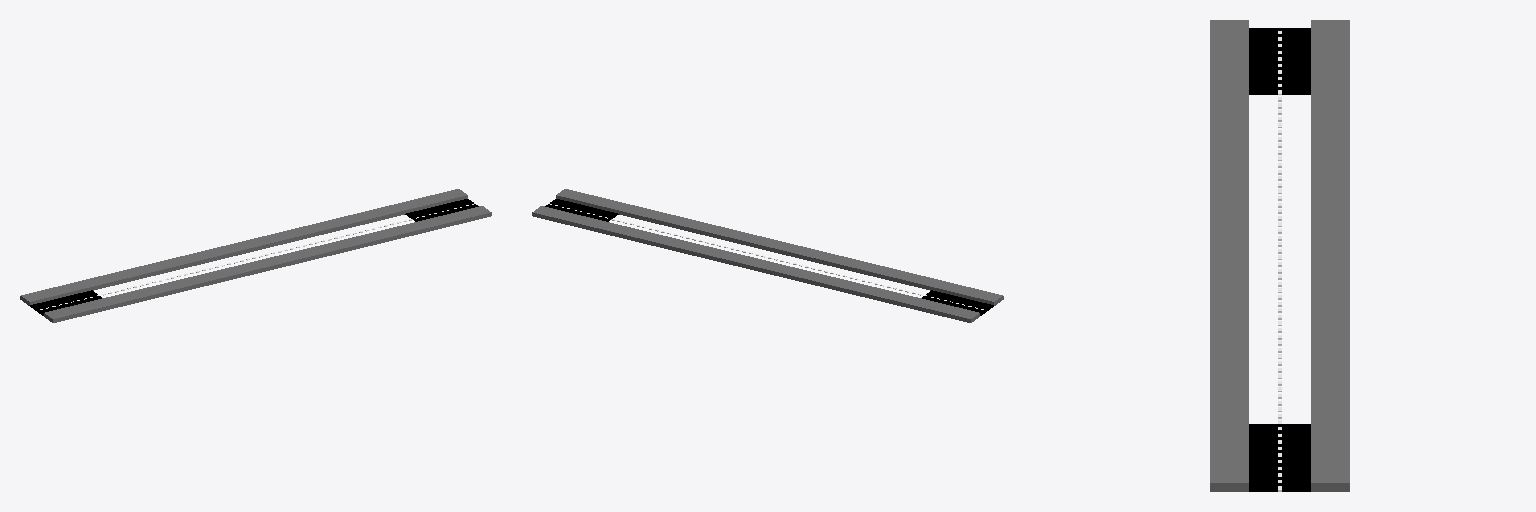
robot.urdf — Track_01:
<?xml version="1.0" encoding="utf-8"?>
<!-- This URDF was automatically created by SolidWorks to URDF Exporter! Originally created by [author] ([email redacted]) 
     Commit Version: 1.6.0-4-g7f85cfe  Build Version: 1.6.7995.38578
     For more information, please see http://wiki.ros.org/sw_urdf_exporter -->
<robot
  name="Track_01">
  <link
    name="Track_link">
    <inertial>
      <origin
        xyz="4.9984 8.8818E-16 -0.0125"
        rpy="0 0 0" />
      <mass
        value="1395" />
      <inertia
        ixx="76.863"
        ixy="-1.7035E-12"
        ixz="4.5741E-13"
        iyy="11625"
        iyz="-6.8212E-13"
        izz="11702" />
    </inertial>
    <visual>
      <origin
        xyz="0 0 0"
        rpy="0 0 0" />
      <geometry>
        <mesh
          filename="package://Track_01/meshes/Track_link.STL" />
      </geometry>
      <material
        name="">
        <color
          rgba="0 0 0 1" />
      </material>
    </visual>
    <collision>
      <origin
        xyz="0 0 0"
        rpy="0 0 0" />
      <geometry>
        <mesh
          filename="package://Track_01/meshes/Track_link.STL" />
      </geometry>
    </collision>
  </link>
  <link
    name="Track_lane">
    <inertial>
      <origin
        xyz="4.9 8.8818E-16 -0.0125"
        rpy="0 0 0" />
      <mass
        value="45" />
      <inertia
        ixx="0.011719"
        ixy="-8.1749E-17"
        ixz="-6.0715E-18"
        iyy="0.039844"
        iyz="1.0083E-17"
        izz="0.046875" />
    </inertial>
    <visual>
      <origin
        xyz="0 0 0"
        rpy="0 0 0" />
      <geometry>
        <mesh
          filename="package://Track_01/meshes/Track_lane.STL" />
      </geometry>
      <material
        name="">
        <color
          rgba="1 1 1 1" />
      </material>
    </visual>
    <collision>
      <origin
        xyz="0 0 0"
        rpy="0 0 0" />
      <geometry>
        <mesh
          filename="package://Track_01/meshes/Track_lane.STL" />
      </geometry>
    </collision>
  </link>
  <joint
    name="Track_lane_joint"
    type="fixed">
    <origin
      xyz="0.15 0 0"
      rpy="0 0 0" />
    <parent
      link="Track_link" />
    <child
      link="Track_lane" />
    <axis
      xyz="0 0 0" />
  </joint>
  <link
    name="Back_Track">
    <inertial>
      <origin
        xyz="0 -8.8818E-16 -0.0125"
        rpy="0 0 0" />
      <mass
        value="279" />
      <inertia
        ixx="15.373"
        ixy="-2.7445E-13"
        ixz="2.2204E-16"
        iyy="93.014"
        iyz="-2.4425E-15"
        izz="108.36" />
    </inertial>
    <visual>
      <origin
        xyz="0 0 0"
        rpy="0 0 0" />
      <geometry>
        <mesh
          filename="package://Track_01/meshes/Back_Track.STL" />
      </geometry>
      <material
        name="">
        <color
          rgba="0 0 0 1" />
      </material>
    </visual>
    <collision>
      <origin
        xyz="0 0 0"
        rpy="0 0 0" />
      <geometry>
        <mesh
          filename="package://Track_01/meshes/Back_Track.STL" />
      </geometry>
    </collision>
  </link>
  <joint
    name="Back_Track_joint"
    type="fixed">
    <origin
      xyz="-1.0016 0 0"
      rpy="0 0 0" />
    <parent
      link="Track_link" />
    <child
      link="Back_Track" />
    <axis
      xyz="0 0 0" />
  </joint>
  <link
    name="Back_lane">
    <inertial>
      <origin
        xyz="0.5 -6.6613E-14 -0.0125"
        rpy="0 0 0" />
      <mass
        value="9" />
      <inertia
        ixx="0.0023438"
        ixy="-7.9689E-18"
        ixz="4.0115E-18"
        iyy="0.0079688"
        iyz="-4.8789E-18"
        izz="0.009375" />
    </inertial>
    <visual>
      <origin
        xyz="0 0 0"
        rpy="0 0 0" />
      <geometry>
        <mesh
          filename="package://Track_01/meshes/Back_lane.STL" />
      </geometry>
      <material
        name="">
        <color
          rgba="1 1 1 1" />
      </material>
    </visual>
    <collision>
      <origin
        xyz="0 0 0"
        rpy="0 0 0" />
      <geometry>
        <mesh
          filename="package://Track_01/meshes/Back_lane.STL" />
      </geometry>
    </collision>
  </link>
  <joint
    name="Back_lane_joint"
    type="fixed">
    <origin
      xyz="-0.44839 0 0"
      rpy="0 0 0" />
    <parent
      link="Back_Track" />
    <child
      link="Back_lane" />
    <axis
      xyz="0 0 0" />
  </joint>
  <link
    name="BST">
    <inertial>
      <origin
        xyz="0 0.65 -0.0625"
        rpy="0 0 0" />
      <mass
        value="1800" />
      <inertia
        ixx="39.844"
        ixy="-1.4211E-14"
        ixz="-1.6875E-14"
        iyy="602.34"
        iyz="-4.2633E-14"
        izz="637.5" />
    </inertial>
    <visual>
      <origin
        xyz="0 0 0"
        rpy="0 0 0" />
      <geometry>
        <mesh
          filename="package://Track_01/meshes/BST.STL" />
      </geometry>
      <material
        name="">
        <color
          rgba="0.5 0.5 0.5 1" />
      </material>
    </visual>
    <collision>
      <origin
        xyz="0 0 0"
        rpy="0 0 0" />
      <geometry>
        <mesh
          filename="package://Track_01/meshes/BST.STL" />
      </geometry>
    </collision>
  </link>
  <joint
    name="BST_joint"
    type="fixed">
    <origin
      xyz="0.0016129 -0.65 0.1"
      rpy="0 0 0" />
    <parent
      link="Back_Track" />
    <child
      link="BST" />
    <axis
      xyz="0 0 0" />
  </joint>
  <link
    name="Front_Track">
    <inertial>
      <origin
        xyz="0 4.4409E-16 -0.0125"
        rpy="0 0 0" />
      <mass
        value="279" />
      <inertia
        ixx="15.373"
        ixy="6.2172E-14"
        ixz="-1.8874E-15"
        iyy="93.014"
        iyz="-7.1054E-15"
        izz="108.36" />
    </inertial>
    <visual>
      <origin
        xyz="0 0 0"
        rpy="0 0 0" />
      <geometry>
        <mesh
          filename="package://Track_01/meshes/Front_Track.STL" />
      </geometry>
      <material
        name="">
        <color
          rgba="0 0 0 1" />
      </material>
    </visual>
    <collision>
      <origin
        xyz="0 0 0"
        rpy="0 0 0" />
      <geometry>
        <mesh
          filename="package://Track_01/meshes/Front_Track.STL" />
      </geometry>
    </collision>
  </link>
  <joint
    name="Front_Track_joint"
    type="fixed">
    <origin
      xyz="10.998 0 0"
      rpy="0 0 0" />
    <parent
      link="Track_link" />
    <child
      link="Front_Track" />
    <axis
      xyz="0 0 0" />
  </joint>
  <link
    name="Front_lane">
    <inertial>
      <origin
        xyz="-0.9 -2.1538E-14 -0.0125"
        rpy="0 0 0" />
      <mass
        value="9" />
      <inertia
        ixx="0.0023438"
        ixy="-1.5179E-18"
        ixz="3.0629E-18"
        iyy="0.0079688"
        iyz="-8.9447E-19"
        izz="0.009375" />
    </inertial>
    <visual>
      <origin
        xyz="0 0 0"
        rpy="0 0 0" />
      <geometry>
        <mesh
          filename="package://Track_01/meshes/Front_lane.STL" />
      </geometry>
      <material
        name="">
        <color
          rgba="1 1 1 1" />
      </material>
    </visual>
    <collision>
      <origin
        xyz="0 0 0"
        rpy="0 0 0" />
      <geometry>
        <mesh
          filename="package://Track_01/meshes/Front_lane.STL" />
      </geometry>
    </collision>
  </link>
  <joint
    name="Front_lane_joint"
    type="fixed">
    <origin
      xyz="0.95161 0 0"
      rpy="0 0 0" />
    <parent
      link="Front_Track" />
    <child
      link="Front_lane" />
    <axis
      xyz="0 0 0" />
  </joint>
  <link
    name="FST">
    <inertial>
      <origin
        xyz="8.8818E-16 0.65 -0.0625"
        rpy="0 0 0" />
      <mass
        value="1800" />
      <inertia
        ixx="39.844"
        ixy="9.8588E-14"
        ixz="-1.7764E-15"
        iyy="602.34"
        iyz="5.6843E-14"
        izz="637.5" />
    </inertial>
    <visual>
      <origin
        xyz="0 0 0"
        rpy="0 0 0" />
      <geometry>
        <mesh
          filename="package://Track_01/meshes/FST.STL" />
      </geometry>
      <material
        name="">
        <color
          rgba="0.5 0.5 0.5 1" />
      </material>
    </visual>
    <collision>
      <origin
        xyz="0 0 0"
        rpy="0 0 0" />
      <geometry>
        <mesh
          filename="package://Track_01/meshes/FST.STL" />
      </geometry>
    </collision>
  </link>
  <joint
    name="FST_joint"
    type="fixed">
    <origin
      xyz="0.0016129 -0.65 0.1"
      rpy="0 0 0" />
    <parent
      link="Front_Track" />
    <child
      link="FST" />
    <axis
      xyz="0 0 0" />
  </joint>
  <link
    name="sidewalk">
    <inertial>
      <origin
        xyz="-3.5527E-15 0.65 -0.0625"
        rpy="0 0 0" />
      <mass
        value="9000" />
      <inertia
        ixx="199.22"
        ixy="-4.7358E-12"
        ixz="-2.4176E-12"
        iyy="75012"
        iyz="-2.5011E-12"
        izz="75187" />
    </inertial>
    <visual>
      <origin
        xyz="0 0 0"
        rpy="0 0 0" />
      <geometry>
        <mesh
          filename="package://Track_01/meshes/sidewalk.STL" />
      </geometry>
      <material
        name="">
        <color
          rgba="0.5 0.5 0.5 1" />
      </material>
    </visual>
    <collision>
      <origin
        xyz="0 0 0"
        rpy="0 0 0" />
      <geometry>
        <mesh
          filename="package://Track_01/meshes/sidewalk.STL" />
      </geometry>
    </collision>
  </link>
  <joint
    name="sidewalk_joint"
    type="fixed">
    <origin
      xyz="5 -0.65 0.1"
      rpy="0 0 0" />
    <parent
      link="Track_link" />
    <child
      link="sidewalk" />
    <axis
      xyz="0 0 0" />
  </joint>
</robot>

--- Facts derived from the render (not from the file) ---
The picture shows the robot from 3 angles, left to right: view 1: azimuth 30°, elevation 25°; view 2: azimuth 150°, elevation 25°; view 3: azimuth 270°, elevation 25°; orthographic projection.
Robot: Track_01 — 9 links, 8 joints (8 fixed); root link Track_link; default pose: every joint at zero.
Links seen in each view (by area): view 1: sidewalk, BST, FST, Back_Track, Front_Track; view 2: sidewalk, BST, FST, Back_Track, Front_Track; view 3: sidewalk, FST, BST, Front_Track, Back_Track, Track_lane.
Boxes of the visible links, x1,y1,x2,y2 form: sidewalk: (83, 204, 428, 307); BST: (20, 280, 115, 322); FST: (397, 189, 491, 231); Back_Track: (30, 290, 101, 315); Front_Track: (405, 199, 478, 221); sidewalk: (595, 204, 940, 307); BST: (908, 280, 1003, 322); FST: (532, 189, 626, 231); Back_Track: (922, 290, 993, 315); Front_Track: (545, 199, 618, 221); sidewalk: (1210, 87, 1349, 416); FST: (1210, 417, 1349, 491); BST: (1210, 20, 1349, 86); Front_Track: (1249, 424, 1310, 491); Back_Track: (1249, 28, 1310, 94); Track_lane: (1278, 97, 1281, 423).
Bounding box of the posed robot: 14 × 1.8 × 0.125 m (x, y, z).
8 mesh visuals loaded from 9 distinct referenced files (8 binary STL); not drawn: 1 (reference not matched to a file when rendering).